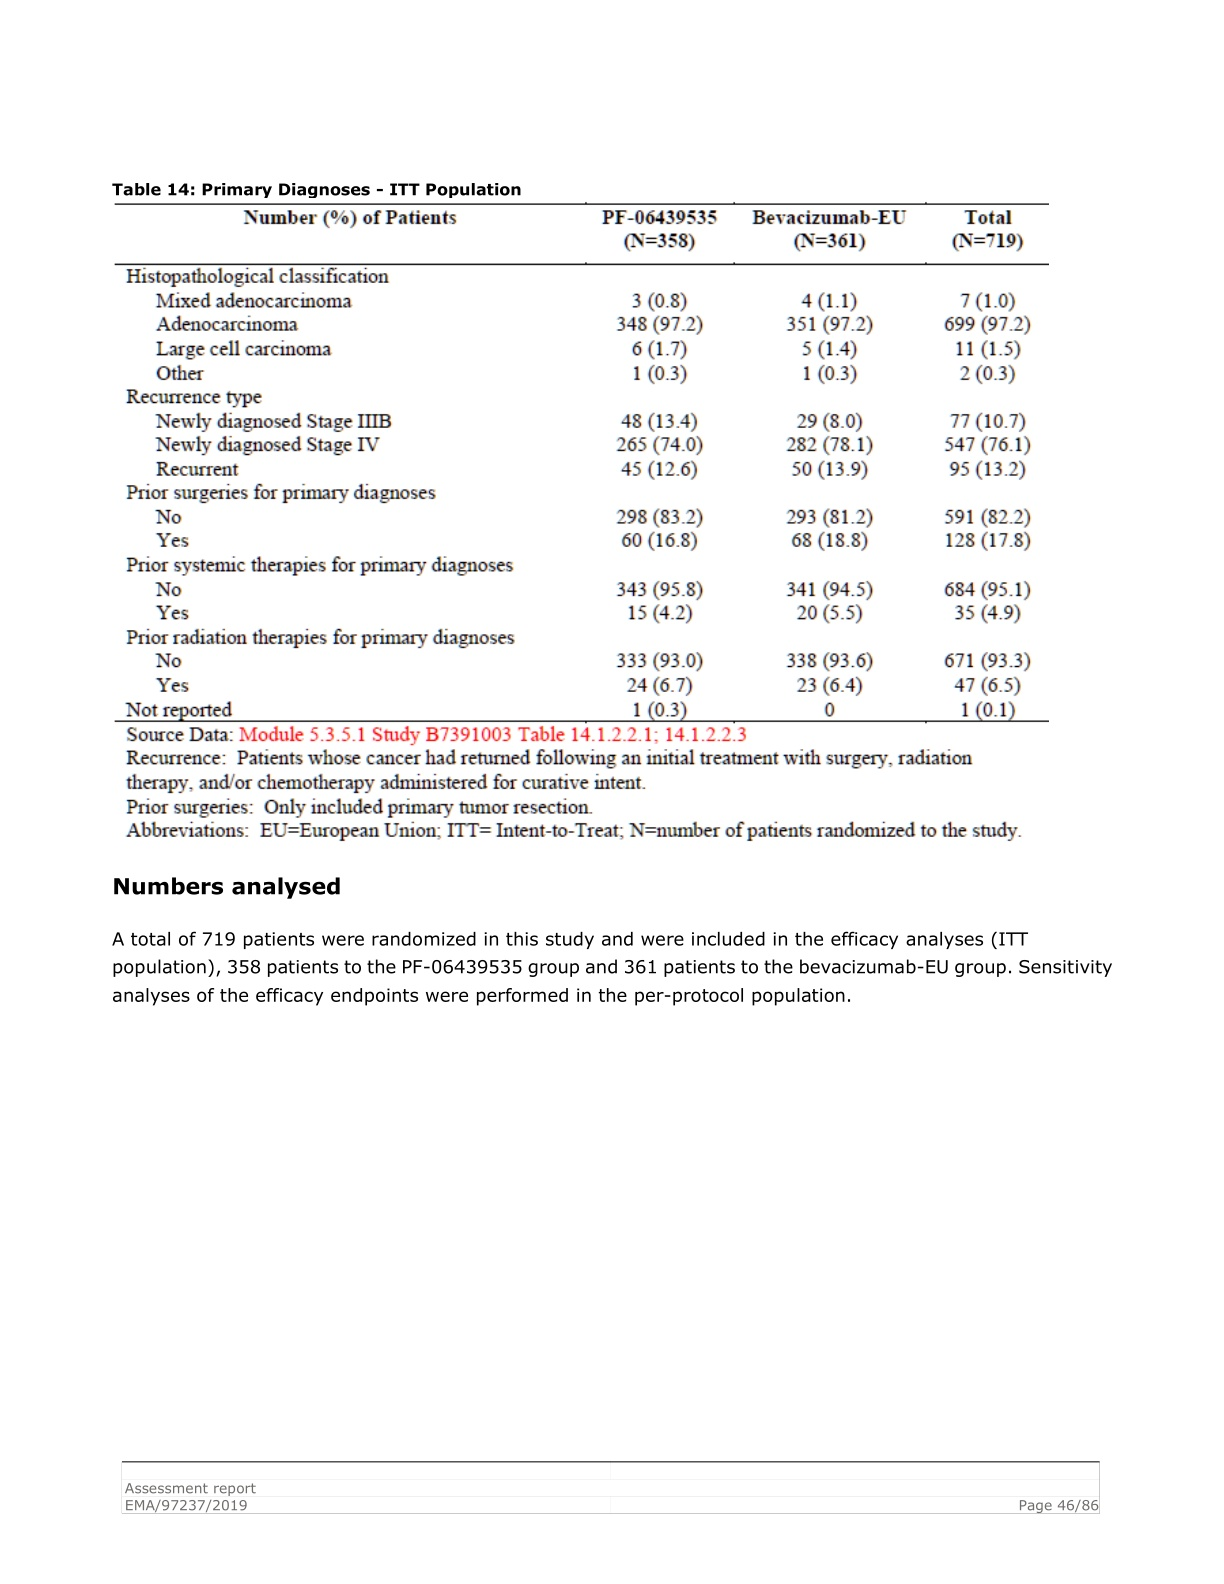partial_lined_merged_cells: (112, 198, 1056, 726)
